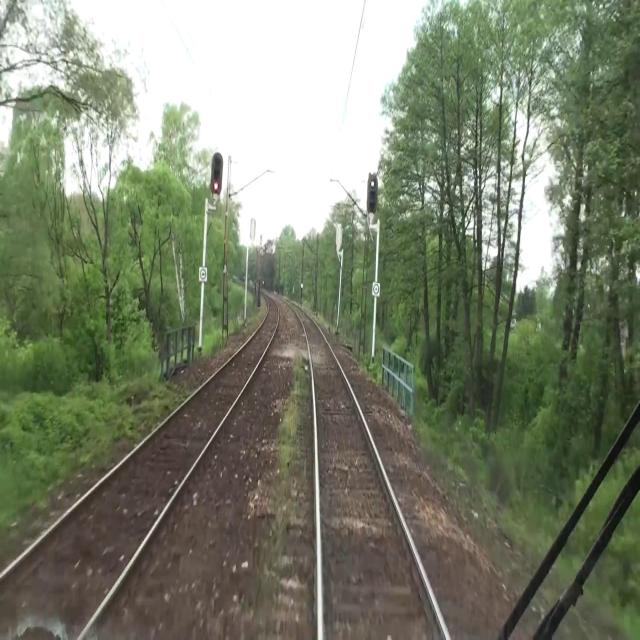rail-track: (0, 296, 277, 639), (294, 306, 445, 639)
